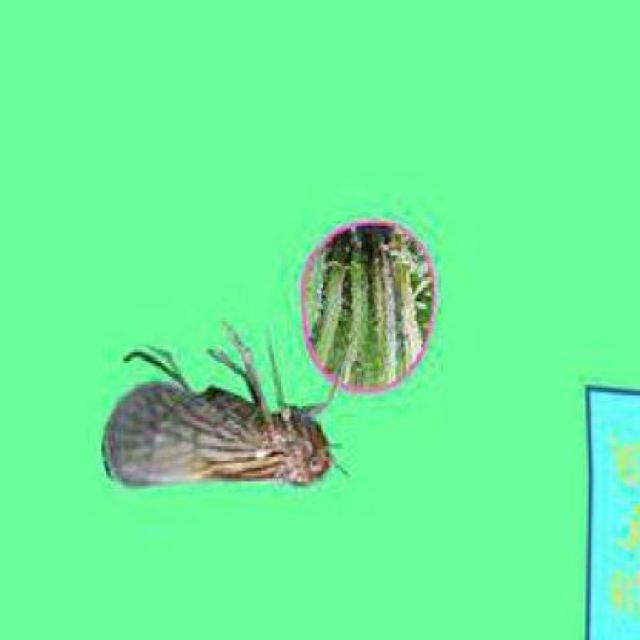brown-planthopper: (99, 372, 333, 493)
